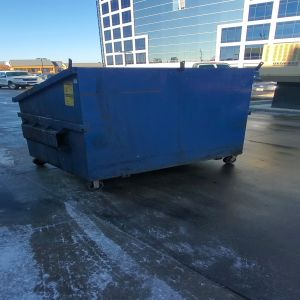Dumpster: (16, 67, 257, 191)
